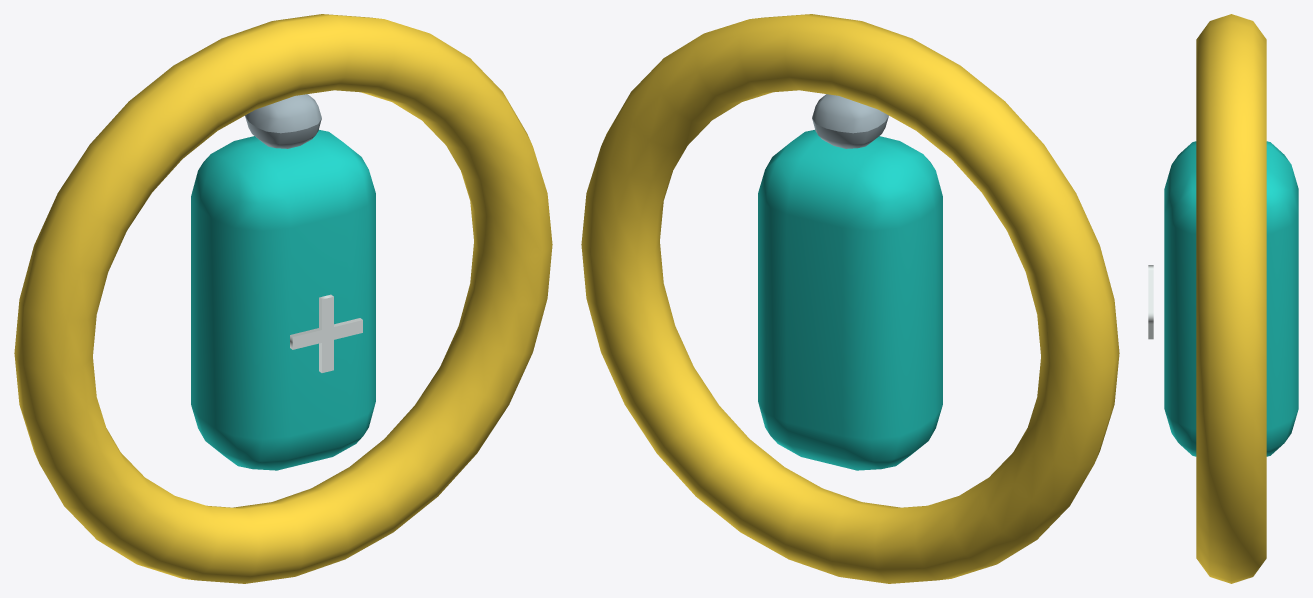
The model's file is Pickup_battery.glb.
3 renders of one model, left to right at view 1: azimuth 30°, elevation 25°; view 2: azimuth 150°, elevation 25°; view 3: azimuth 270°, elevation 25°, orthographic. The views are drawn at different scales.
Parts seen in each view (by area): view 1: Pickup ring, Battery, Terminal, Charge; view 2: Pickup ring, Battery, Terminal; view 3: Pickup ring, Battery, Charge.
Boxes of the visible parts, x1,y1,x2,y2 form: Pickup ring: (14, 14, 552, 583); Battery: (191, 130, 375, 470); Terminal: (245, 94, 321, 148); Charge: (290, 294, 362, 372); Pickup ring: (581, 14, 1119, 583); Battery: (758, 130, 942, 470); Terminal: (812, 94, 888, 148); Pickup ring: (1196, 14, 1266, 583); Battery: (1164, 141, 1298, 456); Charge: (1148, 265, 1153, 339).
Size of the model in its own units: 0.85 by 0.85 by 0.224.
